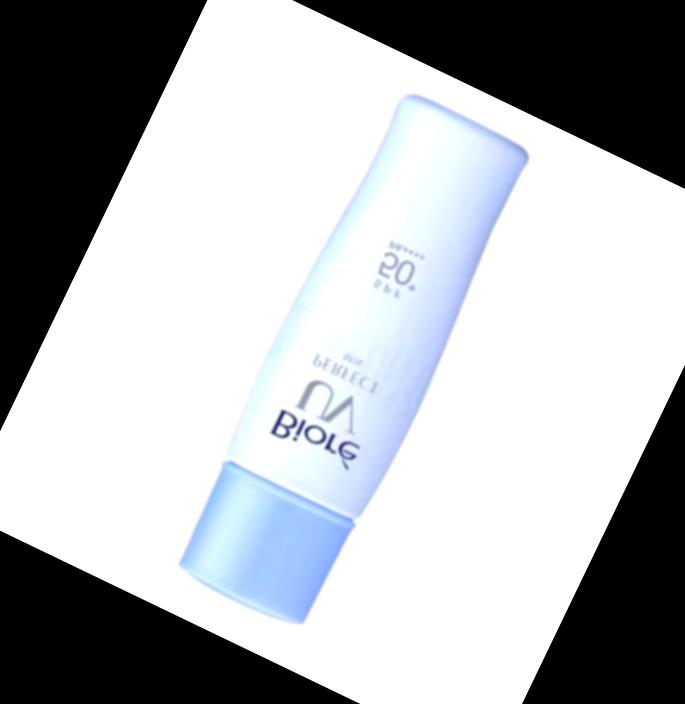cosmetic: (171, 90, 537, 628)
